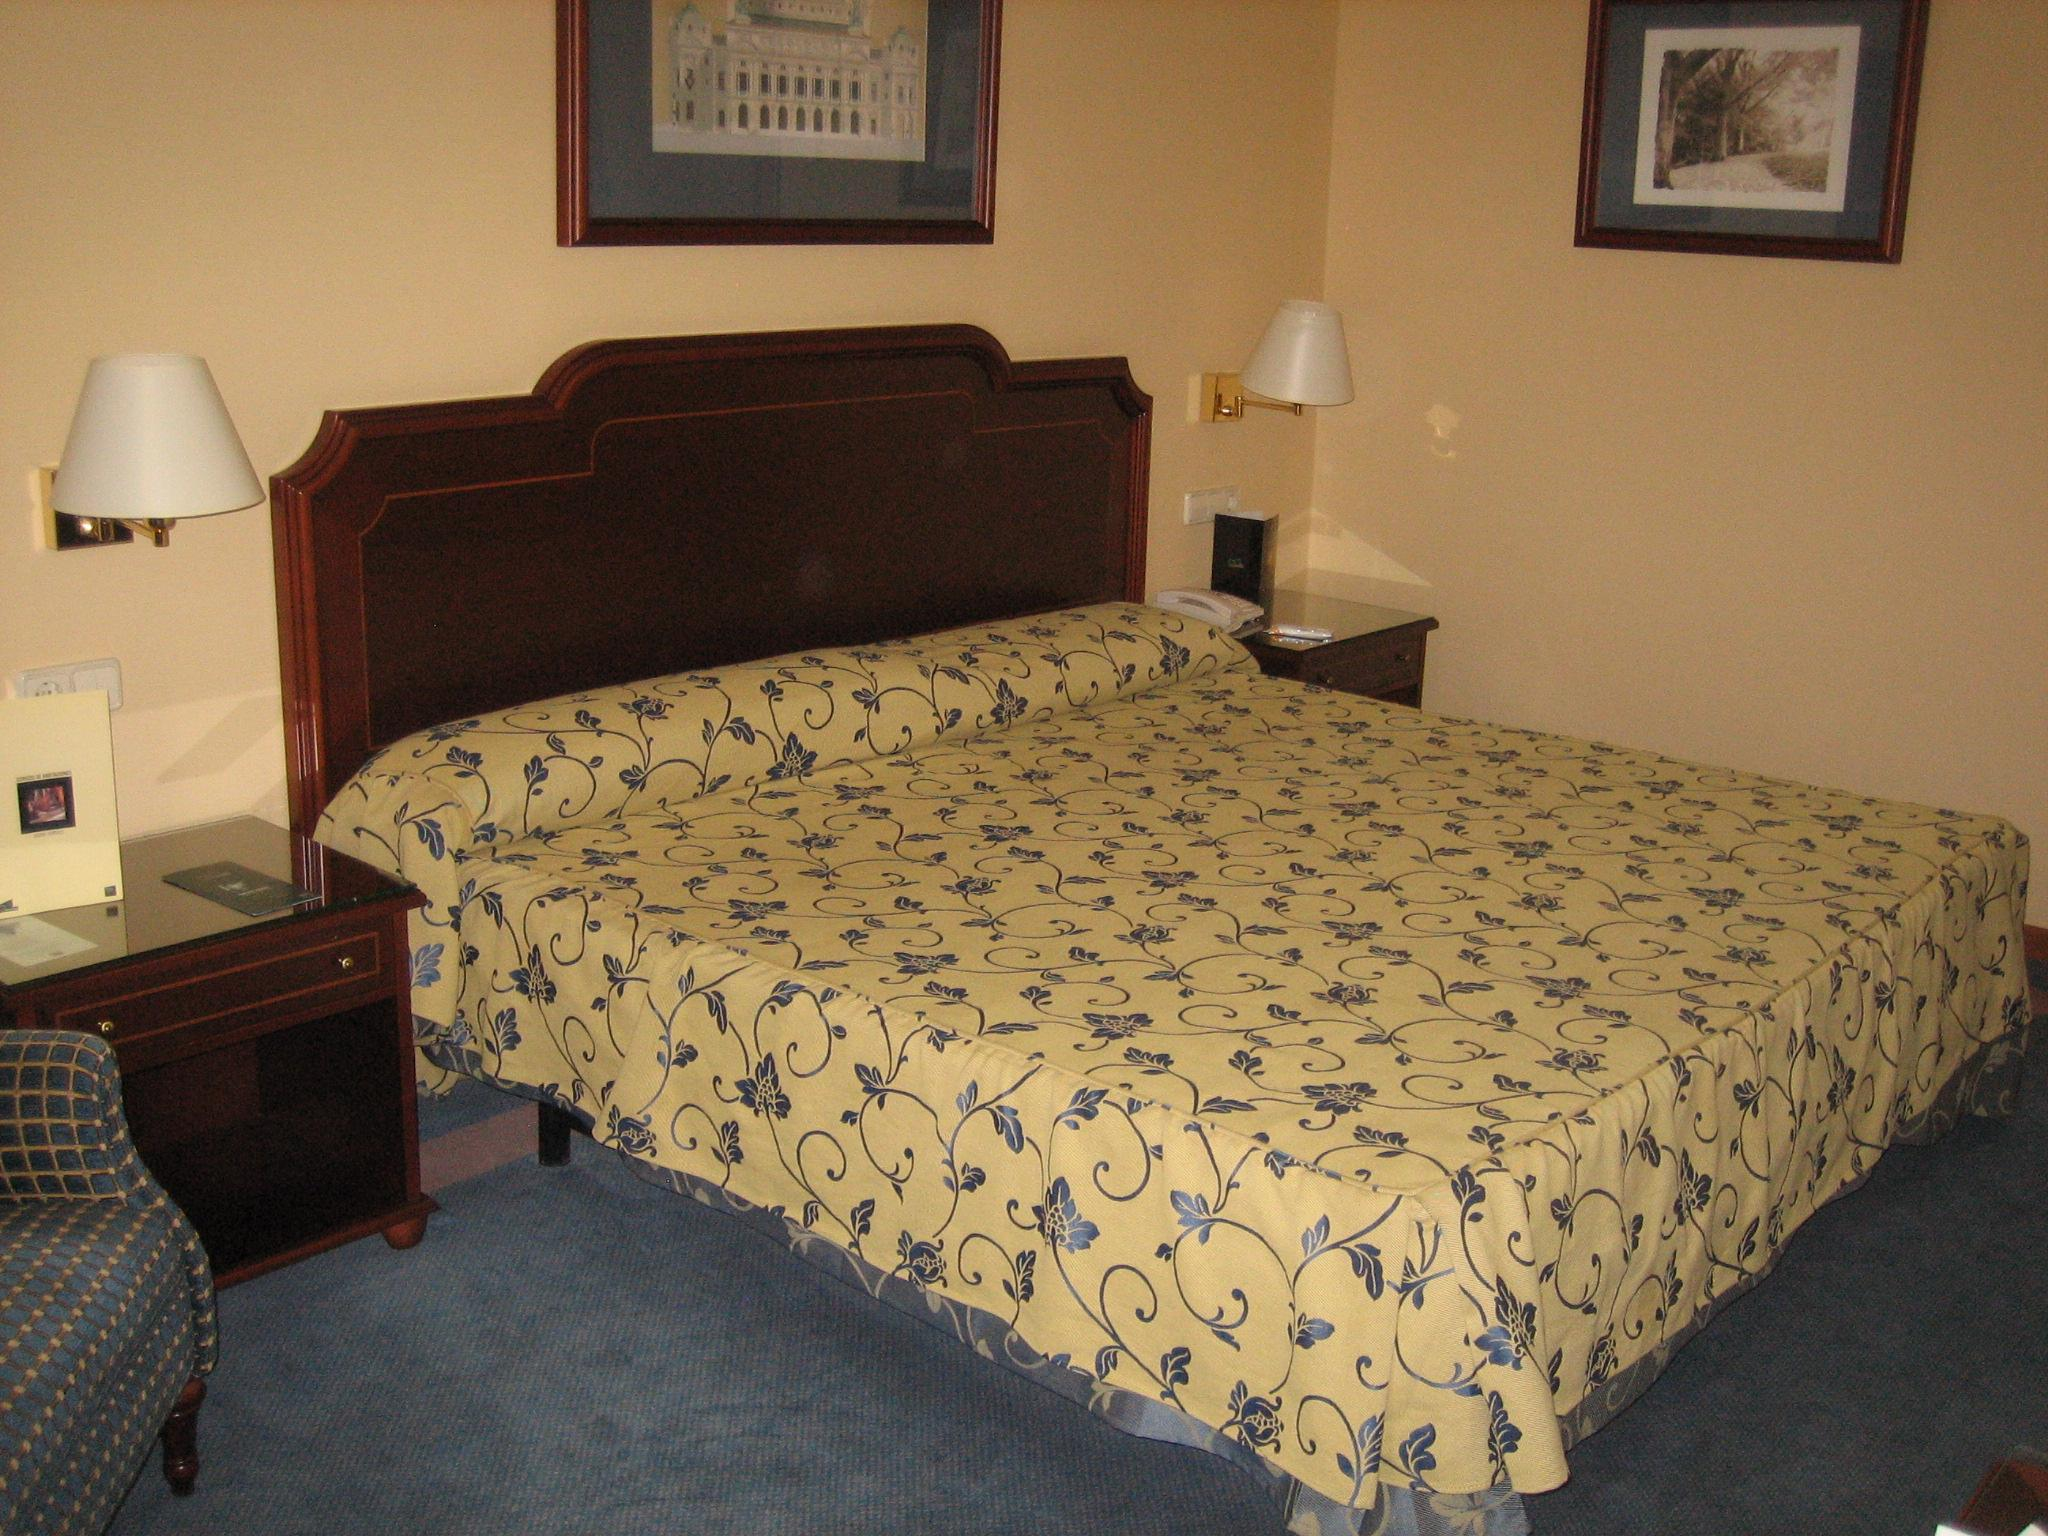Cama: (310, 378, 2029, 1530)
